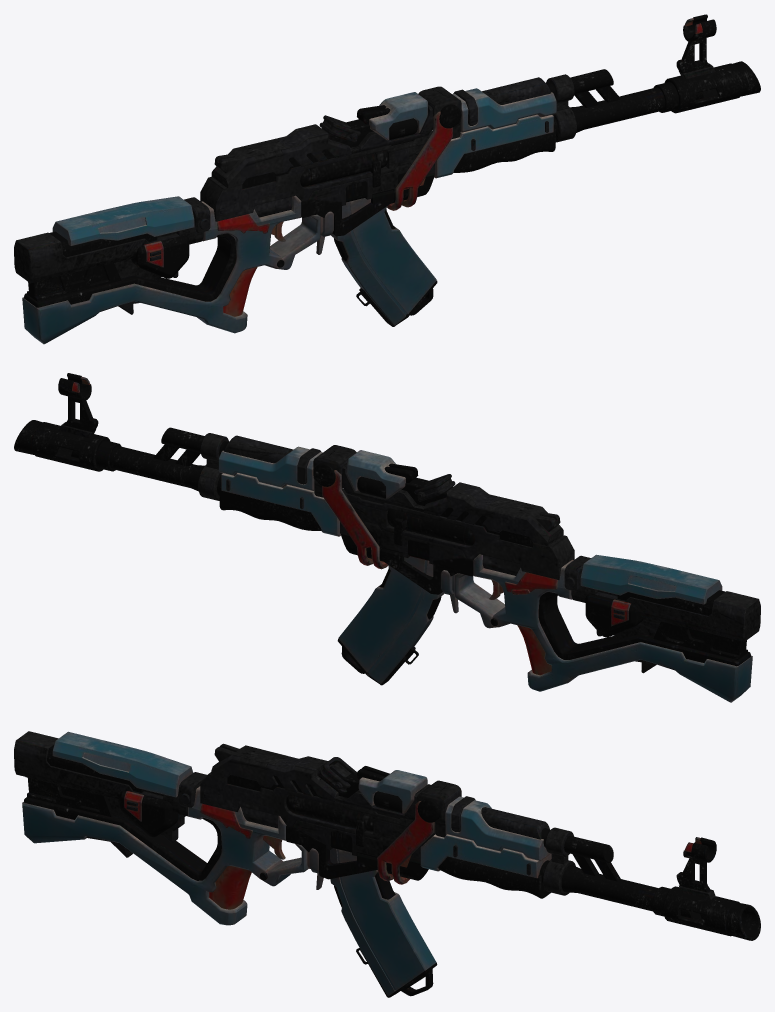
Rendered from Rifle_CyberAK.glb.
3 views of the same model, one above another, from view 1: azimuth 30°, elevation 25°; view 2: azimuth 150°, elevation 25°; view 3: azimuth 330°, elevation 25° (orthographic).
Visible parts, largest first — view 1: Rifle_CyberAK; view 2: Rifle_CyberAK; view 3: Rifle_CyberAK.
Part boxes in pixels (x1,y1,x2,y2): Rifle_CyberAK: [14, 14, 760, 344]; Rifle_CyberAK: [14, 373, 760, 702]; Rifle_CyberAK: [14, 731, 760, 997].
Bounding box in the file's own units: 0.9806 × 0.2939 × 0.0572.
Materials: 4 (4 with a texture image).
